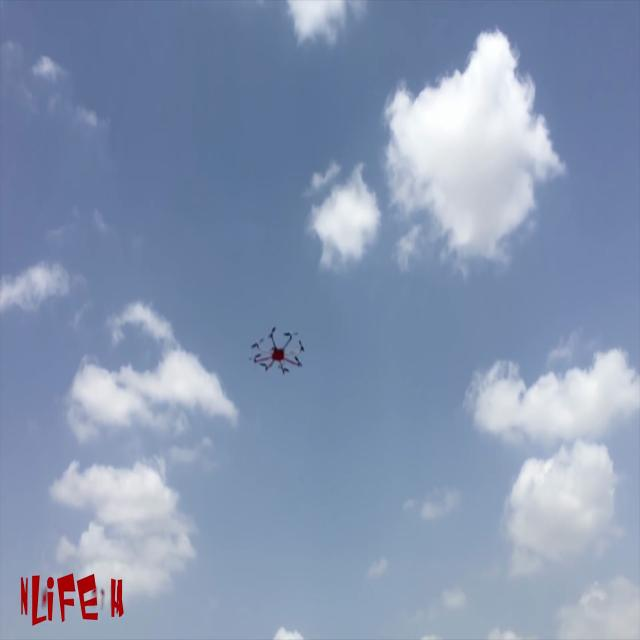drone: (235, 290, 328, 410)
